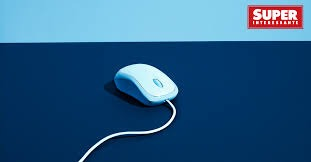mouse: (111, 60, 183, 108)
